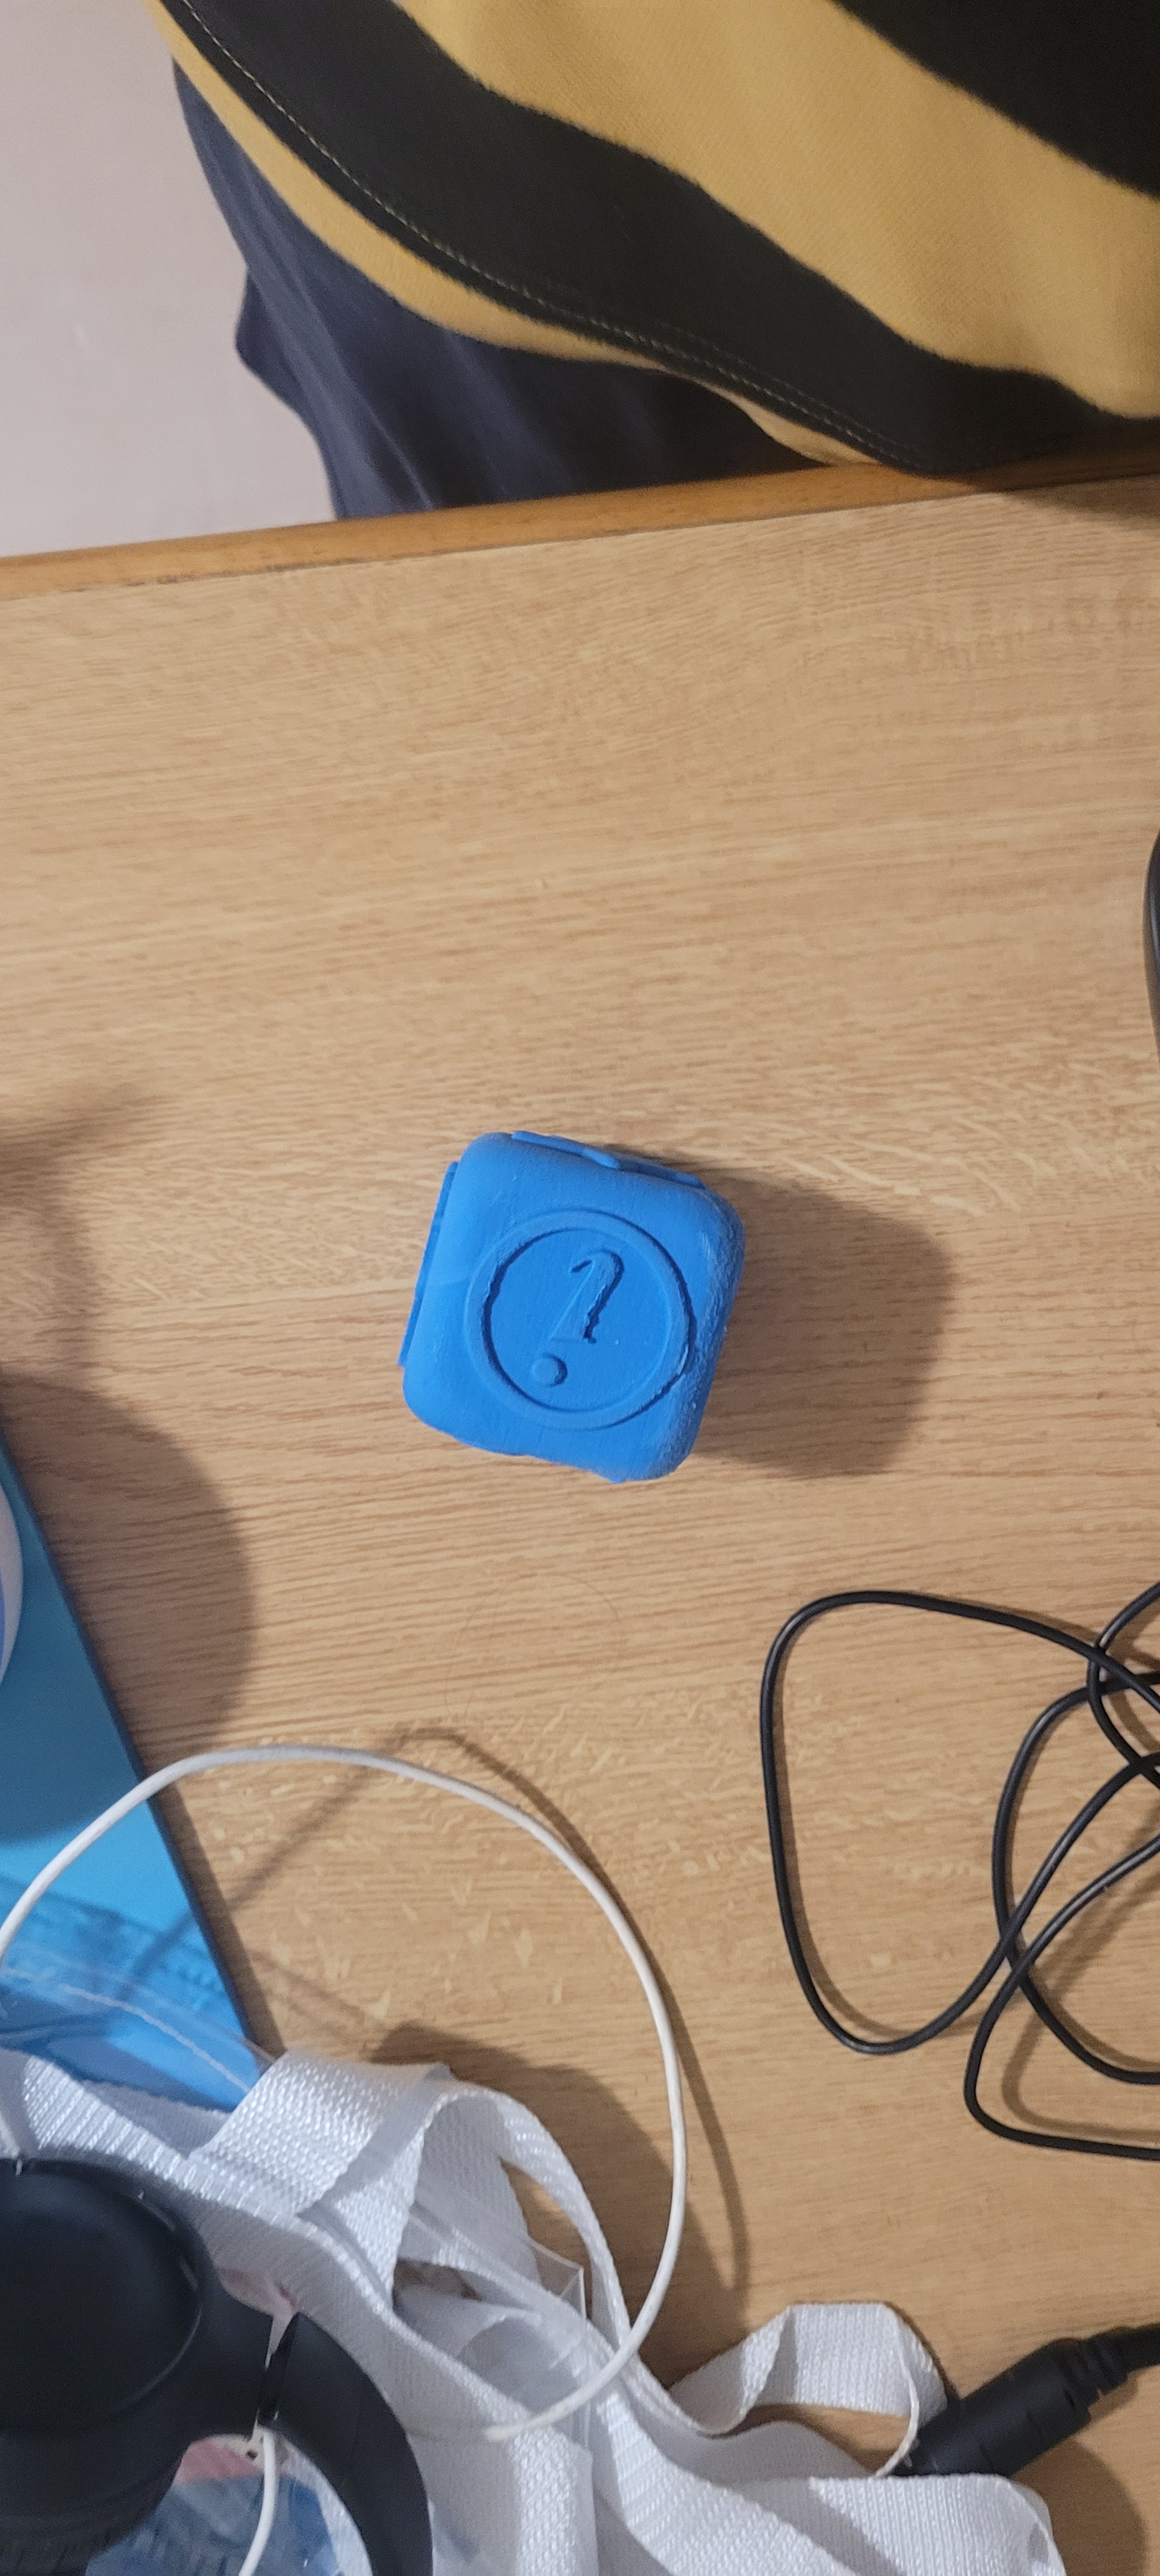Info: (467, 1196, 665, 1433)
